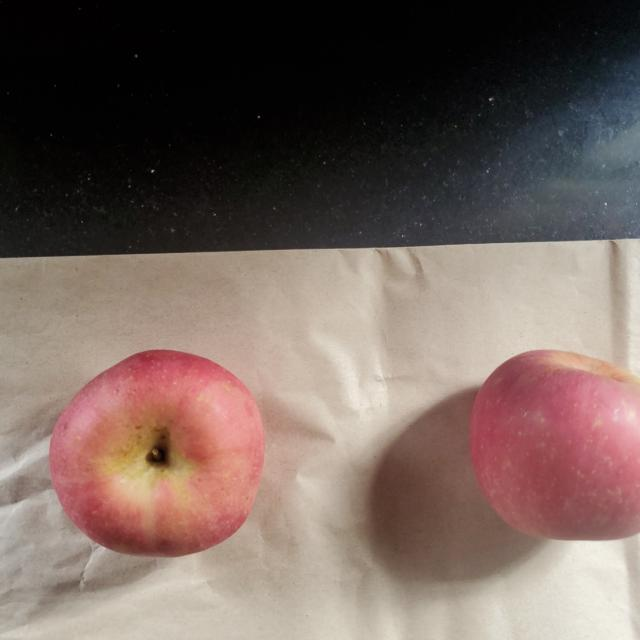apple: (49, 349, 268, 557), (469, 351, 639, 537)
